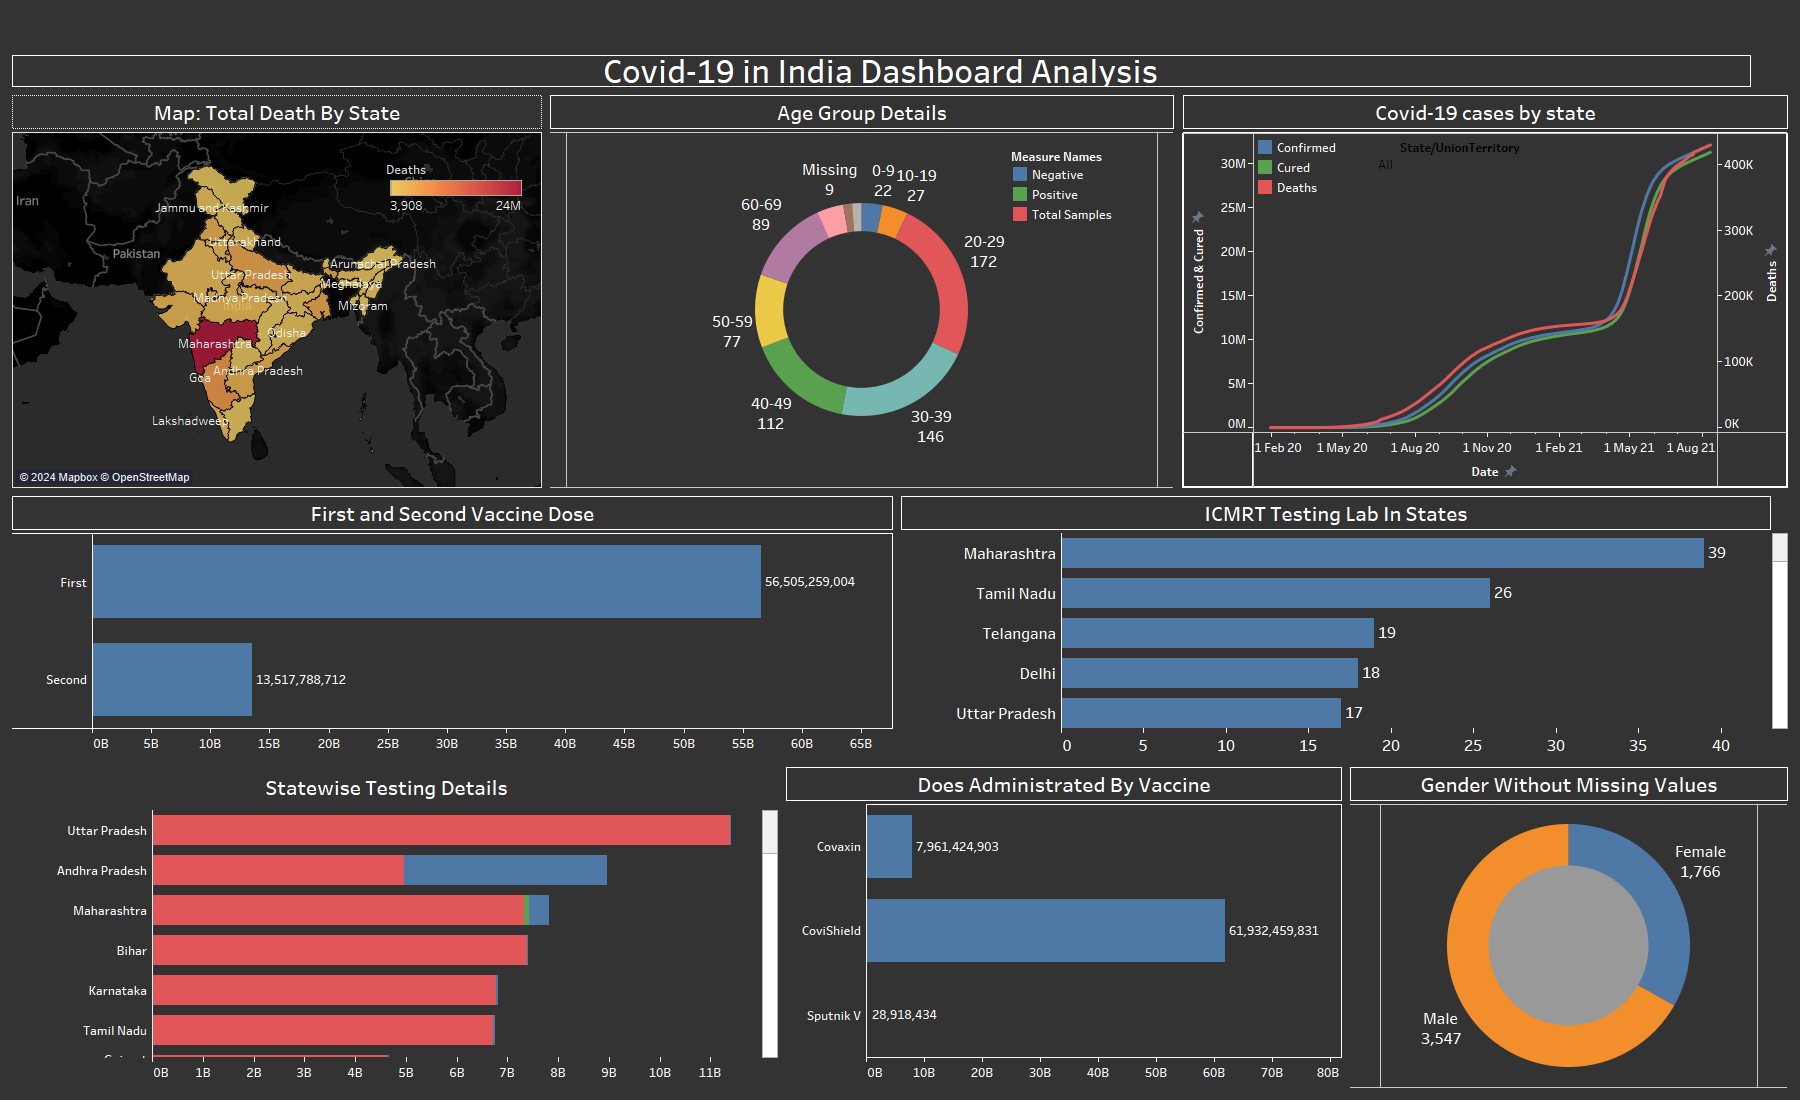

Layout of this report page (visuals, bound fields, positions):
{"tool":"tableau","page":{"name":"Dashboard 1","canvas":[1800,1100],"ordinal":0},"visuals":[{"type":"worksheet","title":"Title","mark":"Automatic","box":[8,8,1784,83]},{"type":"worksheet","title":"Map: Total Death By State","mark":"Automatic","box":[8,91,538,400.5]},{"type":"worksheet","title":"Age Group Details","mark":"Pie","rows":["Calculation_896779341618978817","Calculation_896779341618978817"],"box":[546,91,632,400.5]},{"type":"worksheet","title":"Covid-19 cases by state","mark":"Automatic","rows":["Deaths"],"cols":["Date"],"box":[1178,91,614,400.5]},{"type":"legend","title":"Covid-19 cases by state","param":"[federated.0yaaada1f33srl0ztkj8801k60zn].[:Measure Names]","box":[1255,137,140,60]},{"type":"filter","title":"Covid-19 cases by state","param":"[federated.0yaaada1f33srl0ztkj8801k60zn].[none:State/UnionTerritory:nk]","box":[1376,138,168,52]},{"type":"legend","title":"Statewise Testing Details","param":"[federated.0gxo0sg047lijm1gxg0771aytmhi].[:Measure Names]","box":[1010,146,140,78]},{"type":"legend","title":"Map: Total Death By State","param":"[federated.0yaaada1f33srl0ztkj8801k60zn].[sum:Deaths:qk]","box":[386,157,140,76]},{"type":"worksheet","title":"First and Second Vaccine Dose","mark":"Automatic","box":[8,491.5,889.5,271.5]},{"type":"worksheet","title":"ICMRT Testing Lab In States","mark":"Automatic","rows":["state"],"cols":["lab"],"box":[897.4,491.5,894.6,271.5]},{"type":"worksheet","title":"Statewise Testing Details","mark":"Automatic","rows":["State"],"box":[8,763,774,329]},{"type":"worksheet","title":"Does Administrated By Vaccine","mark":"Automatic","box":[782,763,564,329]},{"type":"worksheet","title":"Gender Without Missing Values","mark":"Pie","rows":["Calculation_896779341620822019","Calculation_896779341620822019"],"box":[1346,763,446,329]}]}

Visuals, with their boxes in screenshot pixels (x1, y1, x2, y2), scaled from the page's 1800x1100 canvas onto the 1800x1100 screenshot:
"Title" worksheet: x1=8, y1=8, x2=1792, y2=91
"Map: Total Death By State" worksheet: x1=8, y1=91, x2=546, y2=492
"Age Group Details" worksheet (Pie marks): x1=546, y1=91, x2=1178, y2=492
"Covid-19 cases by state" worksheet: x1=1178, y1=91, x2=1792, y2=492
"Covid-19 cases by state" legend: x1=1255, y1=137, x2=1395, y2=197
"Covid-19 cases by state" filter: x1=1376, y1=138, x2=1544, y2=190
"Statewise Testing Details" legend: x1=1010, y1=146, x2=1150, y2=224
"Map: Total Death By State" legend: x1=386, y1=157, x2=526, y2=233
"First and Second Vaccine Dose" worksheet: x1=8, y1=492, x2=898, y2=763
"ICMRT Testing Lab In States" worksheet: x1=897, y1=492, x2=1792, y2=763
"Statewise Testing Details" worksheet: x1=8, y1=763, x2=782, y2=1092
"Does Administrated By Vaccine" worksheet: x1=782, y1=763, x2=1346, y2=1092
"Gender Without Missing Values" worksheet (Pie marks): x1=1346, y1=763, x2=1792, y2=1092
